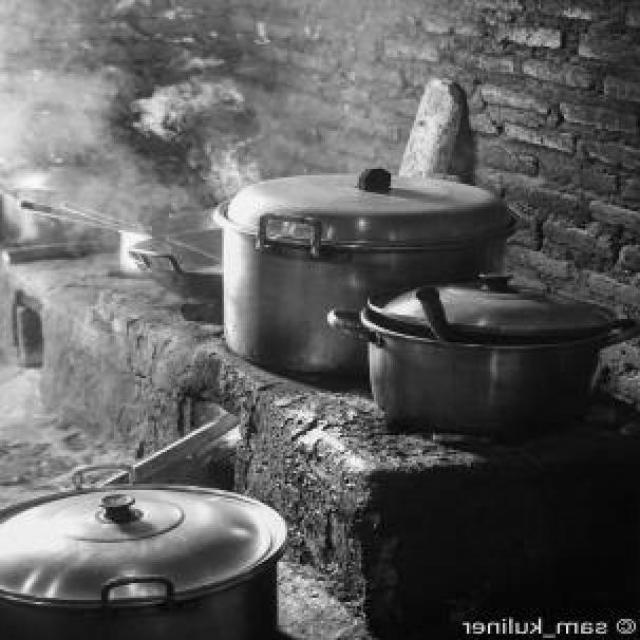fire: (0, 0, 214, 249)
